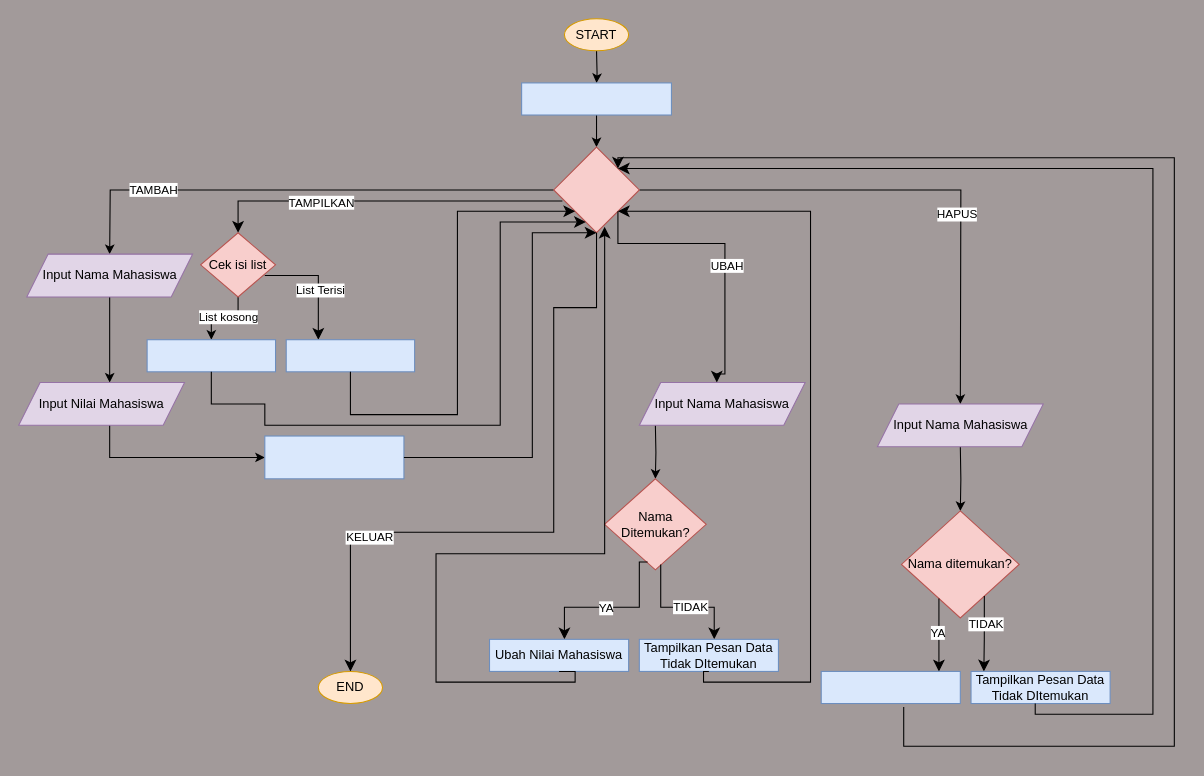
This 1204x776 diagram has some shape labels left out. The box of each missing label's shape, as (x1, y1, x2, y2) in pixels:
Hapus Data Mahasiswa: (820, 670, 960, 704)
Inisialisasi objek daftar nilai mahasiswa: (521, 82, 671, 115)
Pilih Operasi: (553, 146, 639, 233)
Tambahkan list data_nilai_mahasiswa: (264, 435, 404, 479)
Tampilkan pesan tidak ada data: (146, 339, 276, 372)
Tampilkan seluruh Data Mahasiswa: (285, 339, 415, 372)
